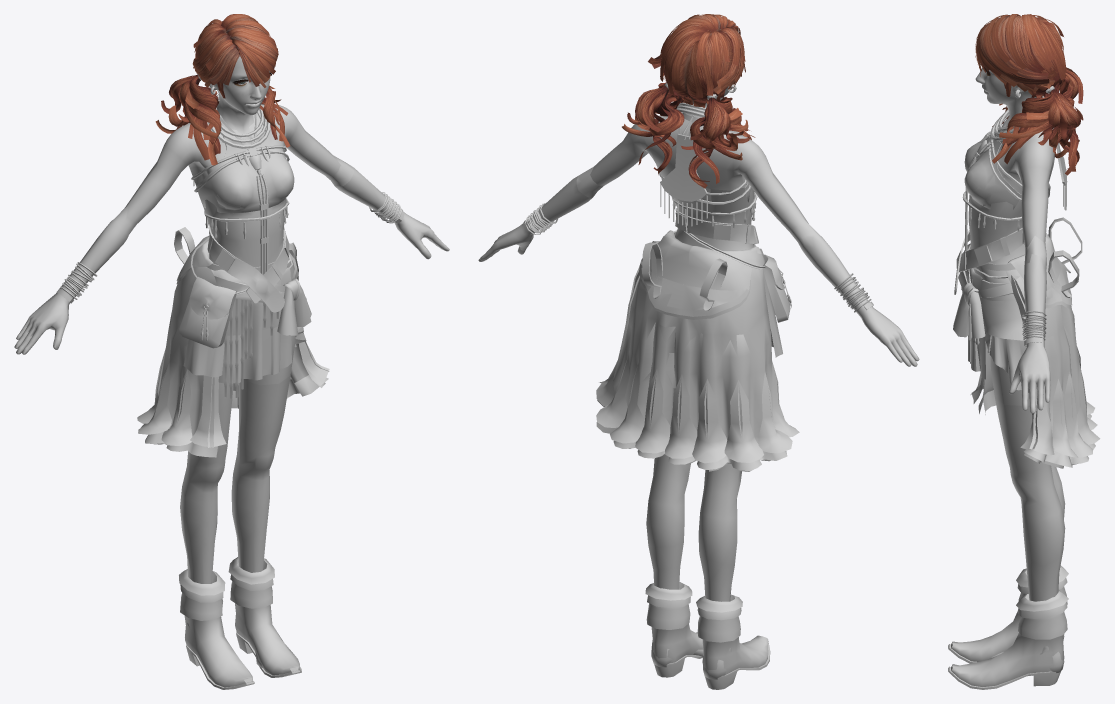
File: xiangcao.obj
3 renders of one model, left to right at view 1: azimuth 30°, elevation 25°; view 2: azimuth 150°, elevation 25°; view 3: azimuth 270°, elevation 25°, orthographic.
Parts seen in each view (by area): view 1: mesh6, mesh011, mesh3, mesh1, mesh7, mesh10, mesh010, mesh013, mesh012, mesh11; view 2: mesh012, mesh6, mesh11, mesh1, mesh010, mesh10, mesh7, mesh3, mesh013, mesh4, mesh011; view 3: mesh6, mesh1, mesh3, mesh011, mesh012, mesh013, mesh11, mesh10, mesh010.
Boxes of the visible parts, x1,y1,x2,y2 form: mesh6: (180,104,449,667); mesh011: (183,76,311,383); mesh3: (209,56,353,572); mesh1: (155,14,290,165); mesh7: (14,123,231,644); mesh10: (158,192,402,435); mesh010: (57,86,404,689); mesh013: (184,145,299,687); mesh012: (141,249,328,620); mesh11: (137,242,329,453); mesh012: (596,253,787,642); mesh6: (478,113,754,667); mesh11: (596,241,799,471); mesh1: (622,14,755,188); mesh010: (522,84,873,689); mesh10: (525,203,771,439); mesh7: (689,130,919,679); mesh3: (576,86,731,589); mesh013: (651,173,768,674); mesh4: (663,29,732,103); mesh011: (682,94,782,357); mesh6: (967,117,1065,676); mesh1: (975,14,1083,175); mesh3: (975,68,1065,601); mesh011: (953,88,1049,392); mesh012: (978,257,1095,639); mesh013: (951,129,1064,687); mesh11: (970,275,1100,468); mesh10: (954,217,1082,449); mesh010: (948,89,1072,689).
Bounding box in the file's own units: 91.95 × 131 × 27.66.
